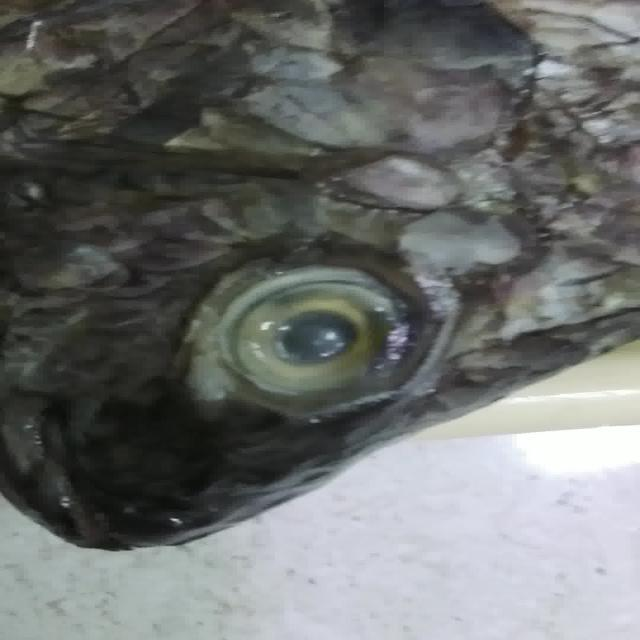Non-Fresh: (205, 234, 405, 416)
